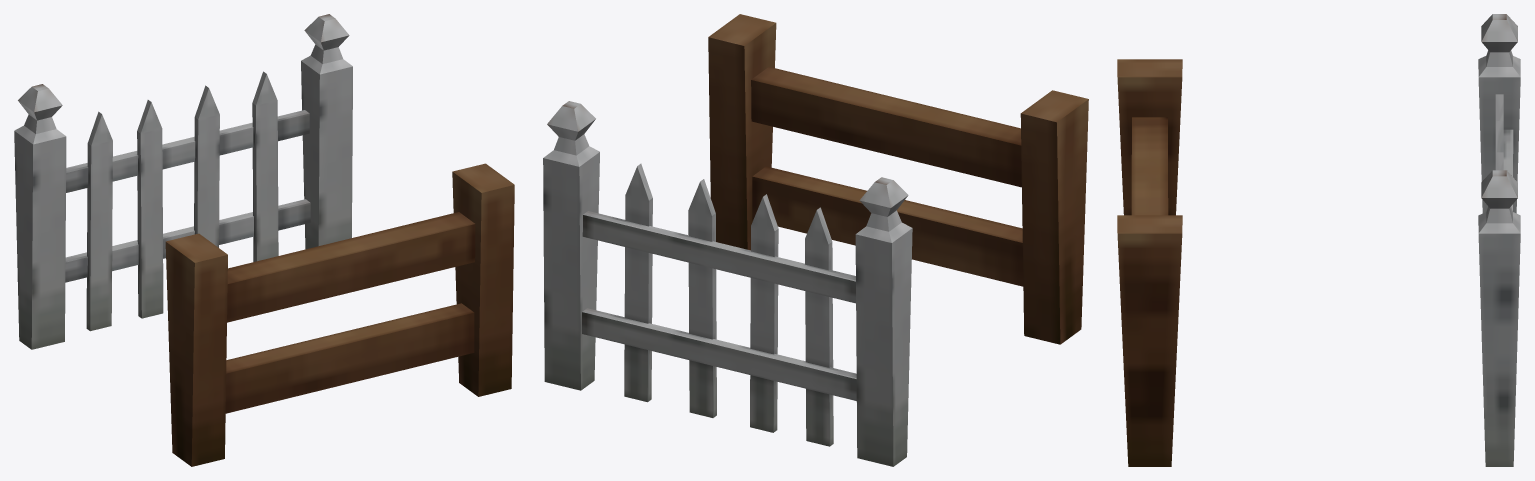
File: fence.fbx
The picture shows the model from 3 angles, left to right: view 1: azimuth 30°, elevation 25°; view 2: azimuth 150°, elevation 25°; view 3: azimuth 270°, elevation 25°; orthographic projection. The views are drawn at different scales.
Visible parts, largest first — view 1: prop_env_fence01_Cube_003, prop_env_fence02_Cube_010, prop_env_fence01_post_Cube_009, prop_env_fence02_post_Cube_012; view 2: prop_env_fence02_Cube_010, prop_env_fence01_Cube_003, prop_env_fence02_post_Cube_012, prop_env_fence01_post_Cube_009; view 3: prop_env_fence01_post_Cube_009, prop_env_fence02_post_Cube_012, prop_env_fence01_Cube_003, prop_env_fence02_Cube_010.
Boxes of the visible parts, bbox=[...] form: prop_env_fence01_Cube_003: bbox=[165, 212, 475, 466]; prop_env_fence02_Cube_010: bbox=[14, 71, 310, 349]; prop_env_fence01_post_Cube_009: bbox=[452, 163, 514, 396]; prop_env_fence02_post_Cube_012: bbox=[301, 14, 352, 249]; prop_env_fence02_Cube_010: bbox=[582, 163, 912, 466]; prop_env_fence01_Cube_003: bbox=[751, 67, 1088, 344]; prop_env_fence02_post_Cube_012: bbox=[543, 101, 599, 390]; prop_env_fence01_post_Cube_009: bbox=[708, 14, 776, 250]; prop_env_fence01_post_Cube_009: bbox=[1117, 215, 1182, 466]; prop_env_fence02_post_Cube_012: bbox=[1478, 170, 1520, 466]; prop_env_fence01_Cube_003: bbox=[1117, 59, 1182, 215]; prop_env_fence02_Cube_010: bbox=[1478, 14, 1520, 213].
Bounding box in the file's own units: 4.49 × 3.39 × 4.37.
